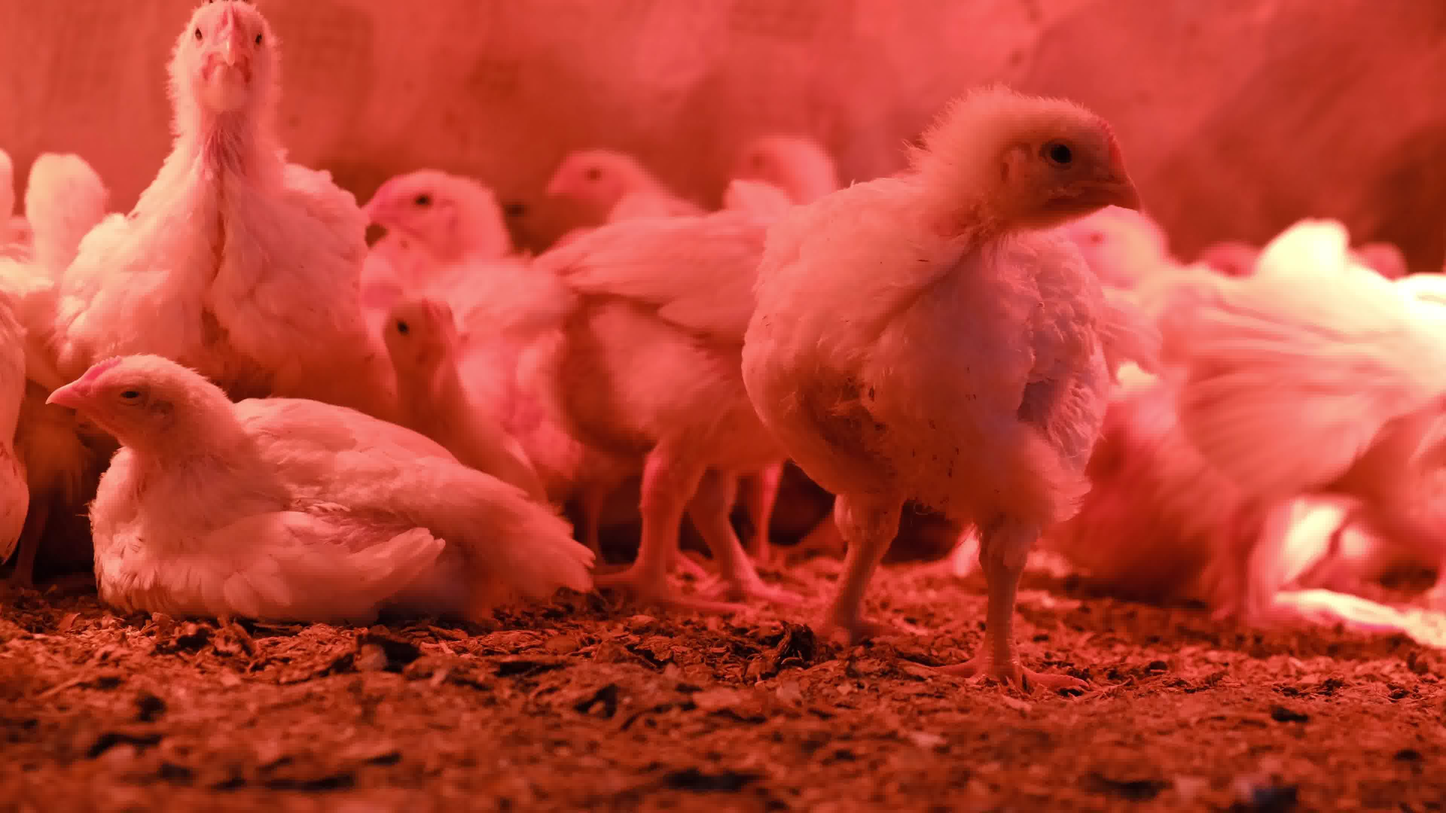AbNormal: (45, 356, 593, 638)
Normal: (761, 94, 1109, 693), (1152, 241, 1446, 617), (109, 8, 365, 378), (554, 201, 776, 627), (335, 294, 529, 444), (346, 154, 512, 265), (2, 120, 109, 254), (535, 136, 651, 226), (725, 120, 821, 192)
